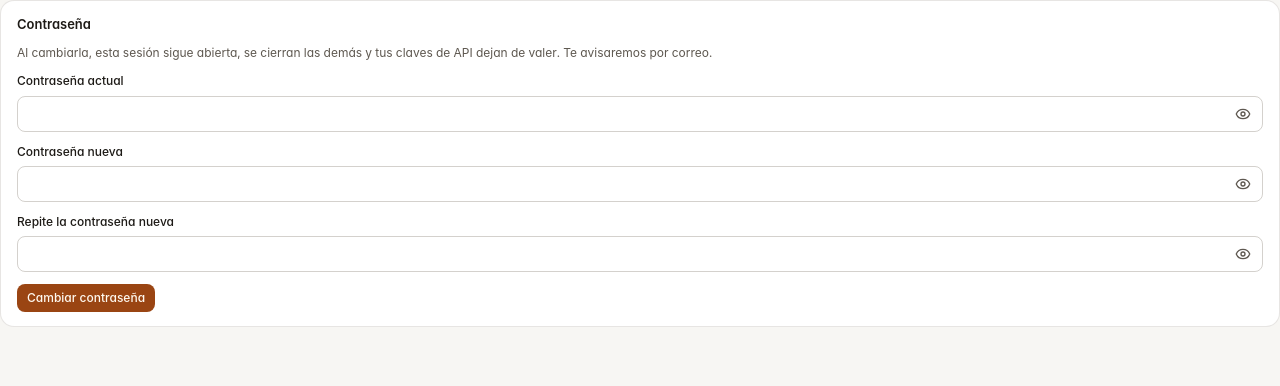
Test: CambioContrasena › enseña junto al formulario por qué la API lo rechazó
Step 1. Type "Equivocada-2026" into the password field labelled "Contraseña actual" → (640, 114), box [17, 96, 1263, 132]
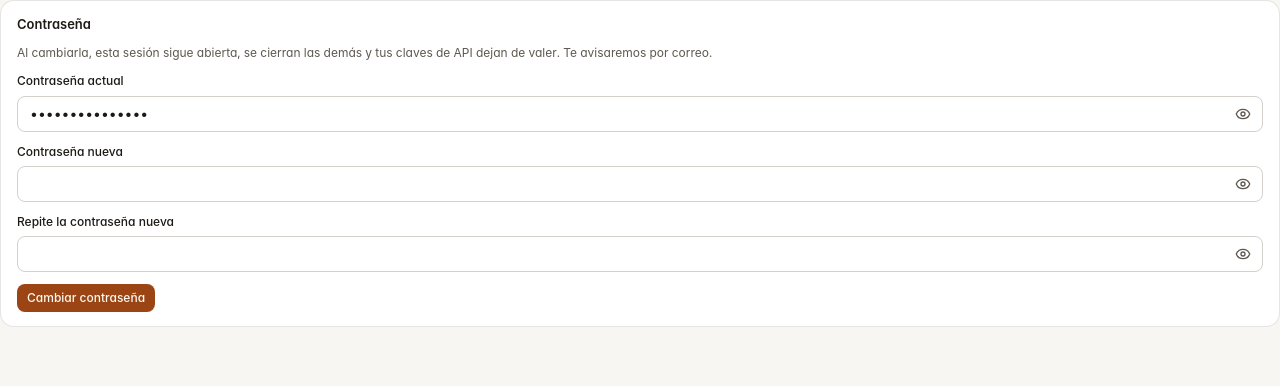
Step 2. Type "Nueva-2026-Segura" into the password field labelled "Contraseña nueva" → (640, 184), box [17, 166, 1263, 202]
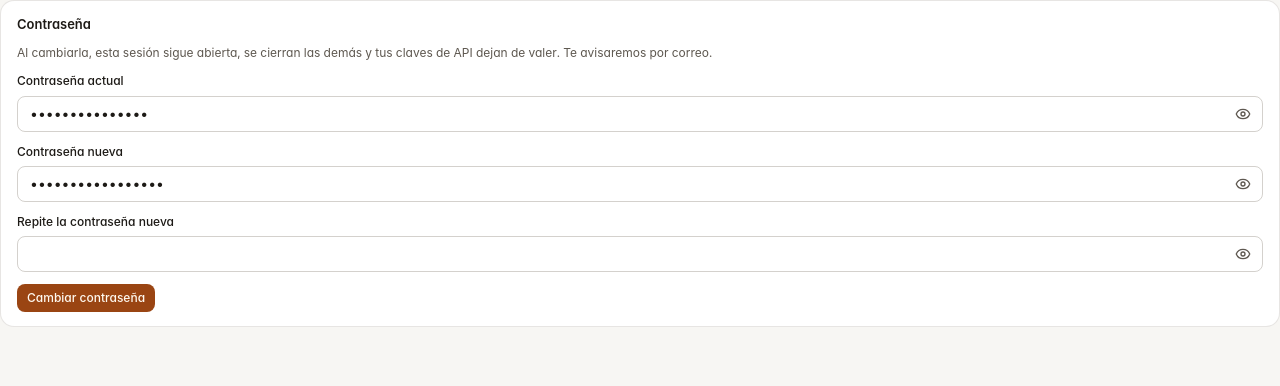
Step 3. Type "Nueva-2026-Segura" into the password field labelled "Repite la contraseña nueva" → (640, 254), box [17, 236, 1263, 272]
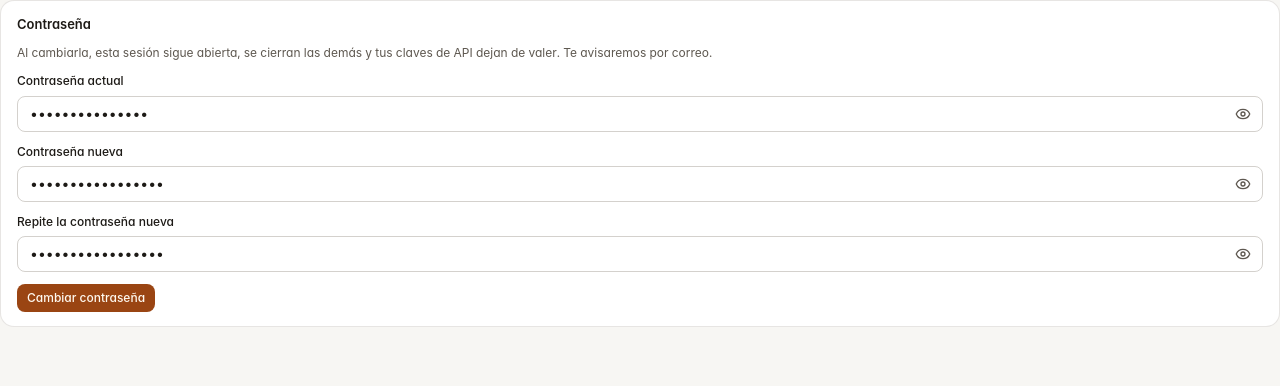
Step 4. Click the button "Cambiar contraseña" → (86, 298), box [17, 284, 155, 312]
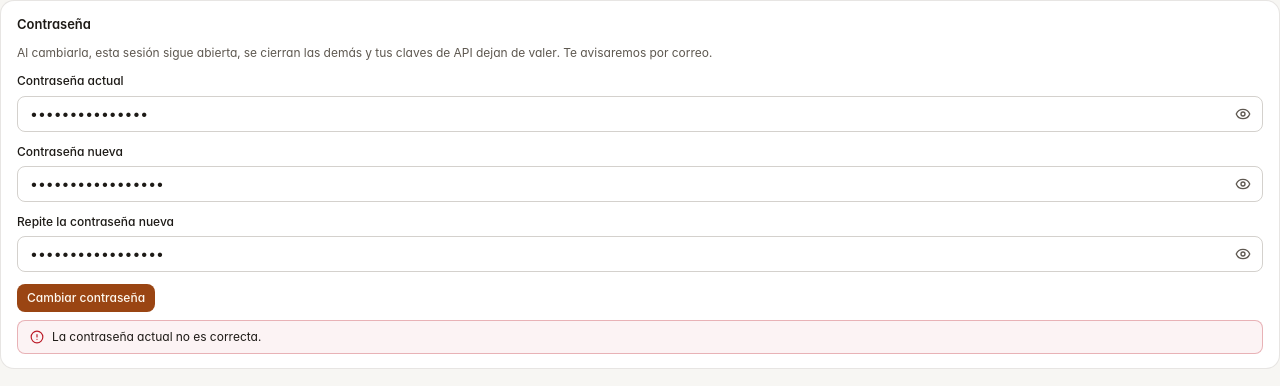
expect the text "La contraseña actual no es correcta." is shown: met, box [52, 329, 261, 344]
